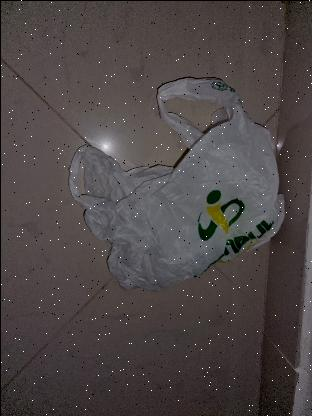Others: (66, 75, 286, 292)
